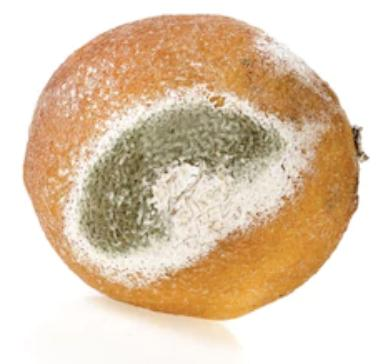Orange Rotten: (13, 8, 374, 331)
